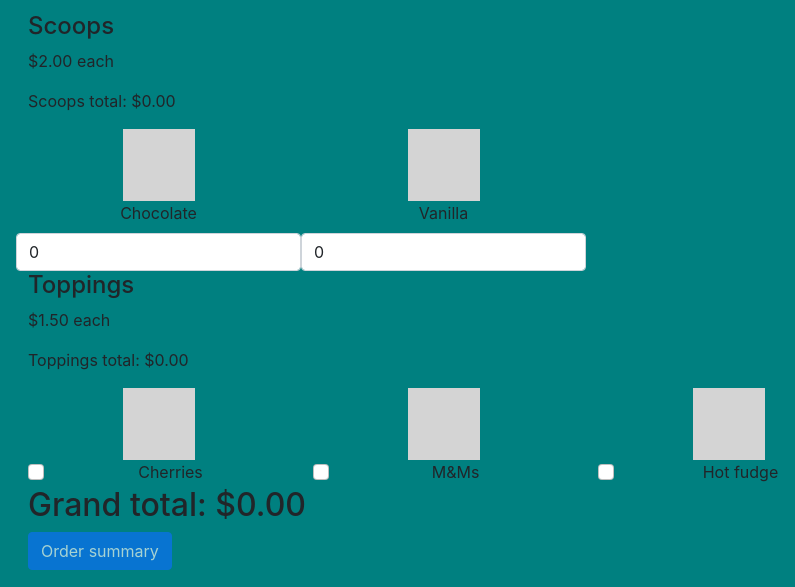
Toppings header is not on summary page if no toppings were ordered
Replace the text in the number field labelled "Vanilla" with "2" at (444, 252), box [301,233,586,271]
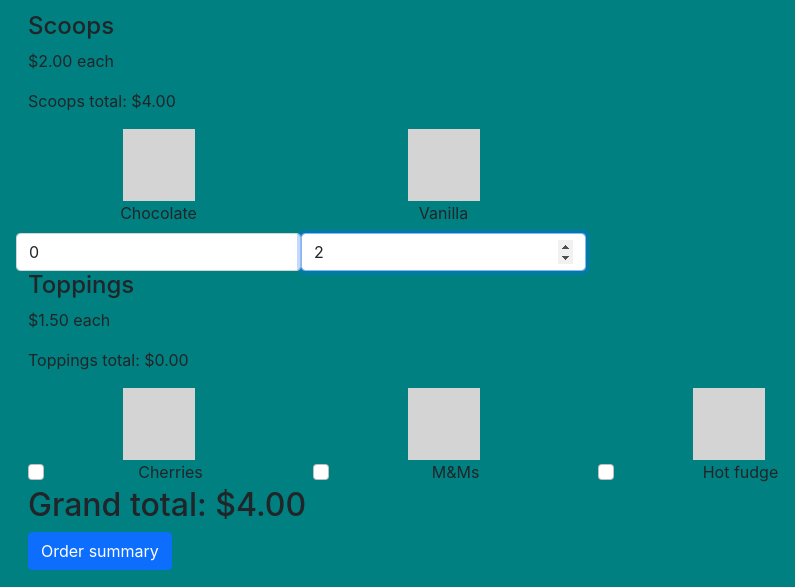
Click the button "Order summary" at (100, 551), box [28,532,172,570]
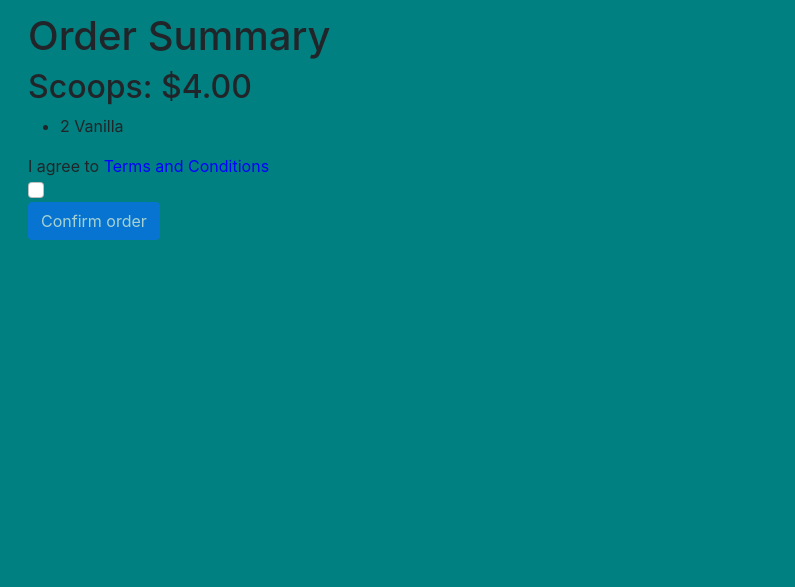
Now the heading "Scoops: $4.00" is shown, box [28,67,252,106]
Now the heading "Toppings" is gone
